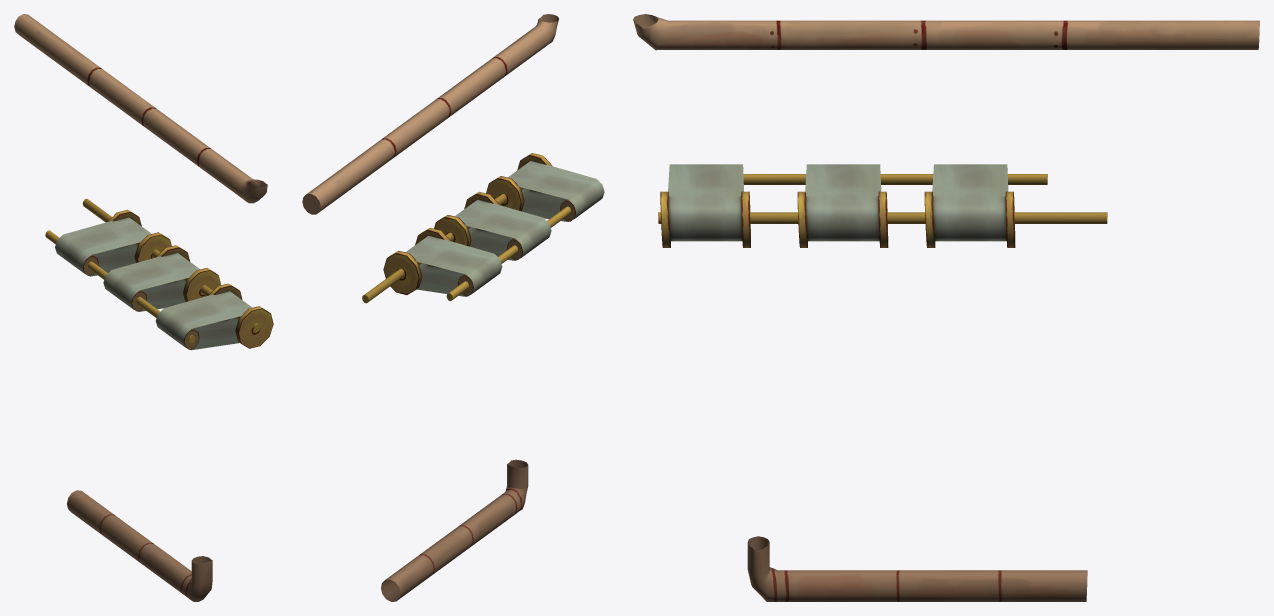
Rendered from workout treadmill.obj.
3 views of the same model, side by side, from view 1: azimuth 30°, elevation 25°; view 2: azimuth 150°, elevation 25°; view 3: azimuth 270°, elevation 25° (orthographic). The views are drawn at different scales.
Parts seen in each view (by area): view 1: polySurface1395, polySurface1451 polySurface1499, polySurface1451 polySurface1503, polySurface1451 polySurface1507, polySurface1451 polySurface1501, polySurface1451 polySurface1588, polySurface1451 polySurface1587, polySurface1451 polySurface1589, polySurface1451 polySurface1504, polySurface1451 polySurface1508; view 2: polySurface1395, polySurface1451 polySurface1507, polySurface1451 polySurface1499, polySurface1451 polySurface1503, polySurface1451 polySurface1588, polySurface1451 polySurface1509, polySurface1451 polySurface1587, polySurface1451 polySurface1589, polySurface1451 polySurface1502, polySurface1451 polySurface1505; view 3: polySurface1395, polySurface1451 polySurface1499, polySurface1451 polySurface1507, polySurface1451 polySurface1503, polySurface1451 polySurface1588, polySurface1451 polySurface1587, polySurface1451 polySurface1589.
Boxes of the visible parts, <box> form: polySurface1395: <box>14,14,267,601</box>; polySurface1451 polySurface1499: <box>155,291,252,350</box>; polySurface1451 polySurface1503: <box>103,253,199,311</box>; polySurface1451 polySurface1507: <box>55,217,151,276</box>; polySurface1451 polySurface1501: <box>235,306,273,348</box>; polySurface1451 polySurface1588: <box>104,253,197,308</box>; polySurface1451 polySurface1587: <box>157,293,250,349</box>; polySurface1451 polySurface1589: <box>55,218,150,275</box>; polySurface1451 polySurface1504: <box>183,268,220,301</box>; polySurface1451 polySurface1508: <box>134,232,171,262</box>; polySurface1395: <box>302,14,571,601</box>; polySurface1451 polySurface1507: <box>406,235,502,296</box>; polySurface1451 polySurface1499: <box>508,161,604,221</box>; polySurface1451 polySurface1503: <box>455,199,551,260</box>; polySurface1451 polySurface1588: <box>455,200,551,260</box>; polySurface1451 polySurface1509: <box>383,250,422,294</box>; polySurface1451 polySurface1587: <box>509,161,603,218</box>; polySurface1451 polySurface1589: <box>409,236,500,293</box>; polySurface1451 polySurface1502: <box>486,176,524,211</box>; polySurface1451 polySurface1505: <box>434,215,471,246</box>; polySurface1395: <box>633,14,1259,601</box>; polySurface1451 polySurface1499: <box>668,164,743,241</box>; polySurface1451 polySurface1507: <box>932,164,1008,241</box>; polySurface1451 polySurface1503: <box>805,164,881,241</box>; polySurface1451 polySurface1588: <box>805,164,880,240</box>; polySurface1451 polySurface1587: <box>668,164,743,240</box>; polySurface1451 polySurface1589: <box>933,164,1007,240</box>.
Size of the model in its own units: 1.72 by 8.5 by 8.19.
2 materials, 2 textured.
